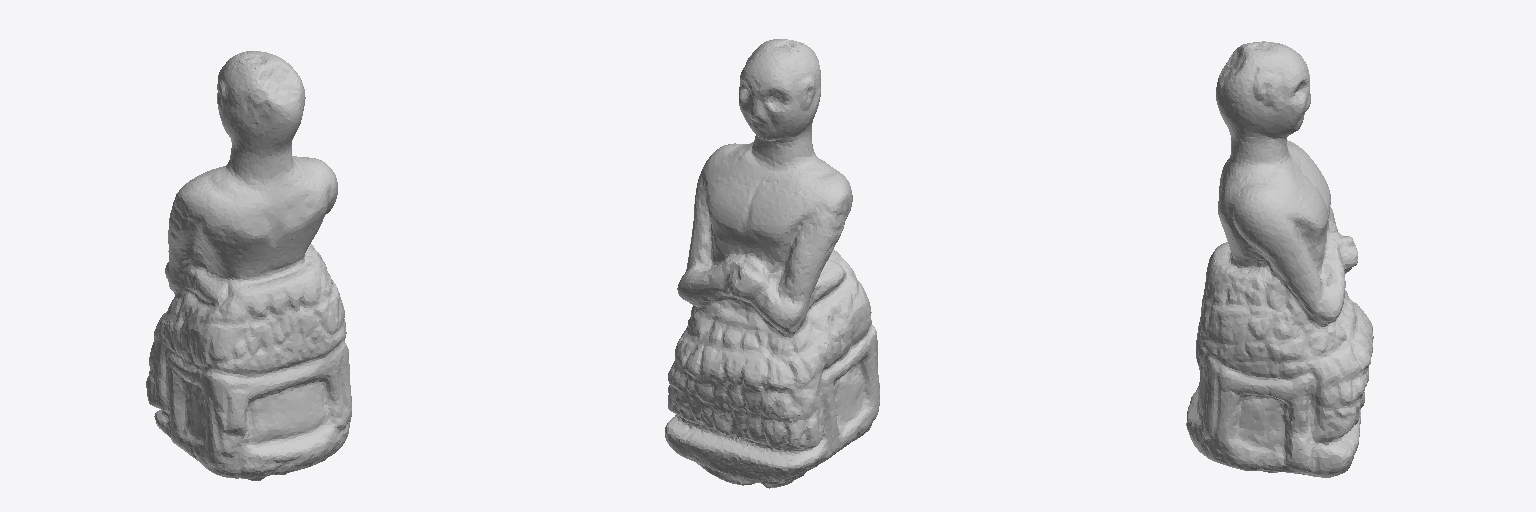
The model's file is 5figurine_30k_4096.obj.
3 views of the same model, side by side, from view 1: azimuth 30°, elevation 25°; view 2: azimuth 150°, elevation 25°; view 3: azimuth 270°, elevation 25° (orthographic).
Parts seen in each view (by area): view 1: figurine_30k_4096; view 2: figurine_30k_4096; view 3: figurine_30k_4096.
Part boxes in pixels (left/top/right/bottom): figurine_30k_4096: left=146, top=51, right=351, bottom=480; figurine_30k_4096: left=665, top=39, right=879, bottom=488; figurine_30k_4096: left=1186, top=41, right=1373, bottom=477.
Size of the model in its own units: 2.98 by 7.47 by 3.07.